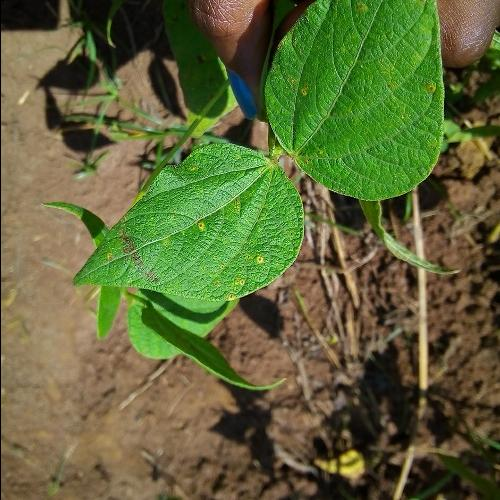hawar: (212, 234, 300, 308), (99, 206, 164, 288)
sehat: (313, 10, 429, 176)
